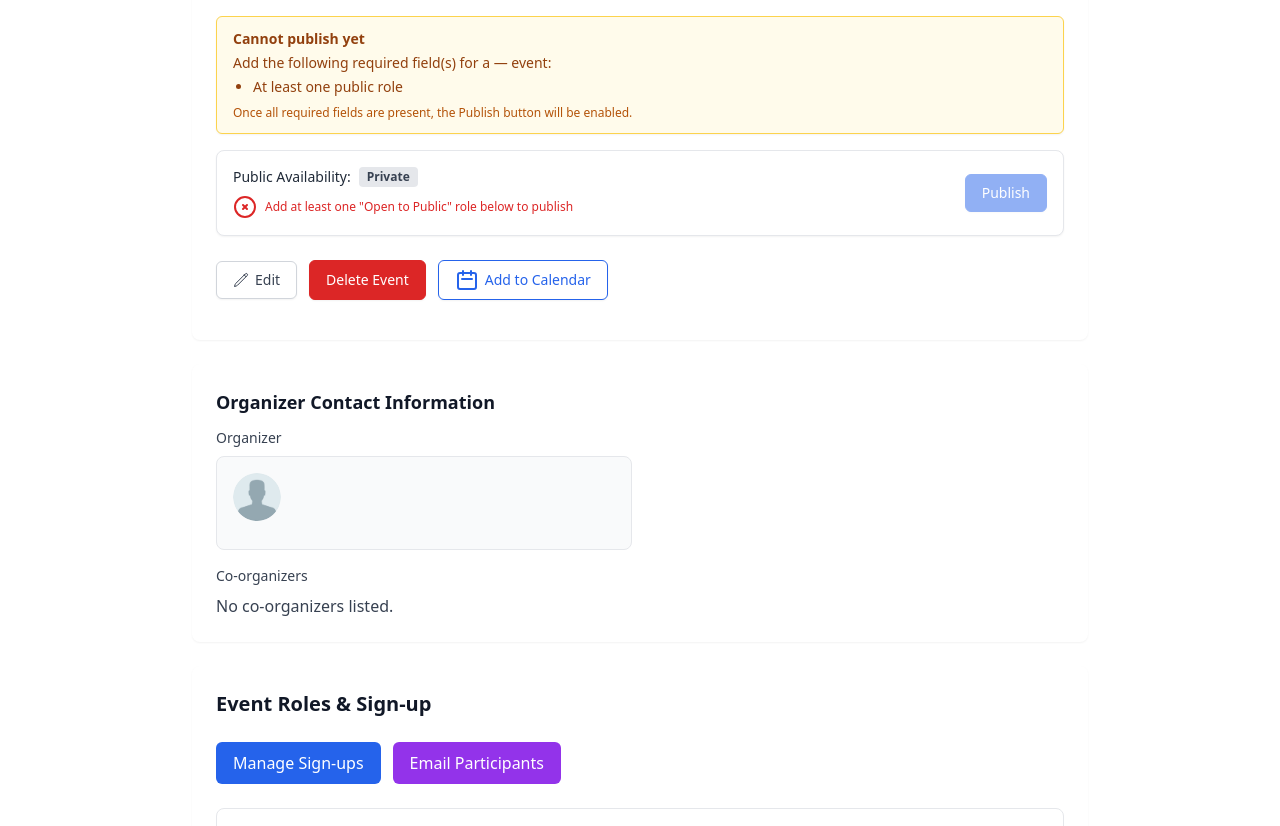
Test case: EventDetail - Admin guest actions › cancels a guest and removes it from the list after confirm
The width and height of the screenshot is (1280, 826).
Click the button "Manage Sign-ups" at coordinates (298, 763), box [216,742,381,784]
(page scrolled)
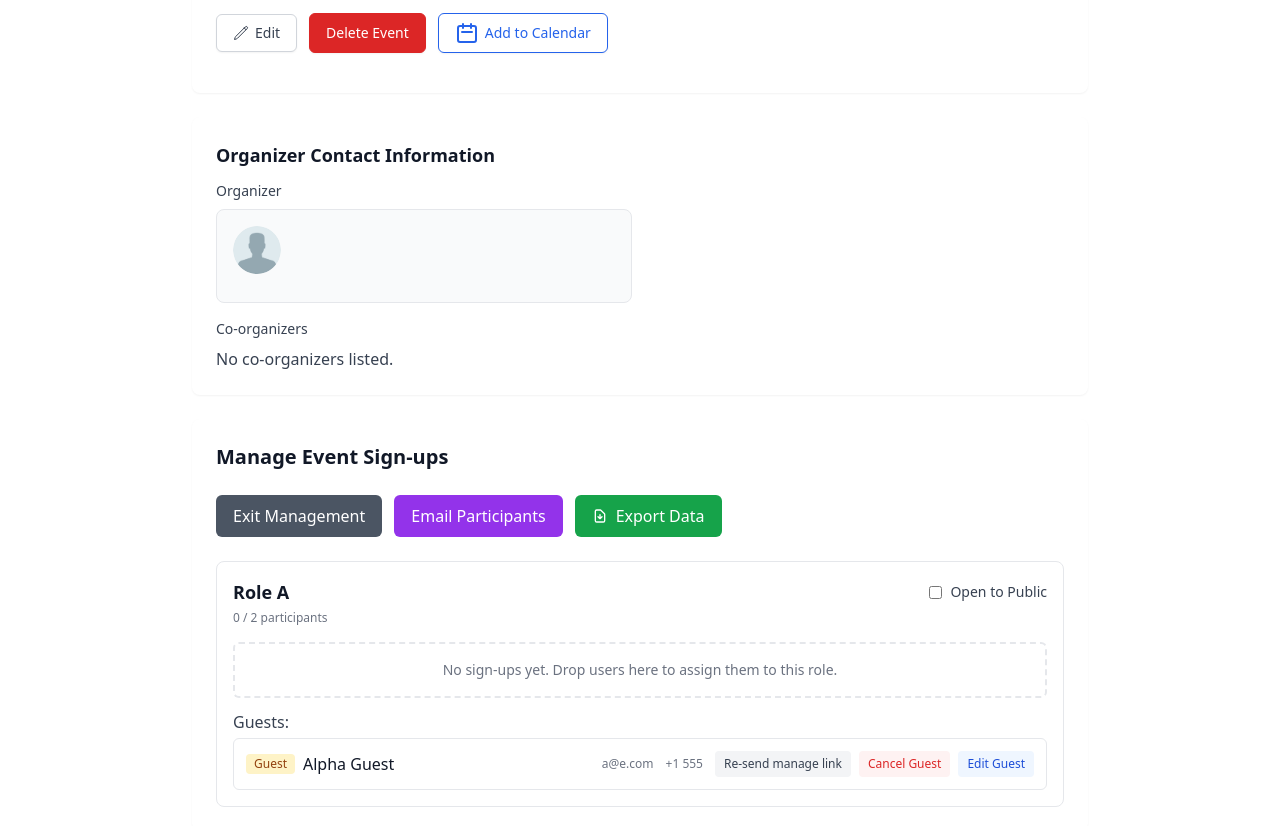
Expected: the heading "Guests:" is shown, [233,711,289,733]
Expected: the text "Alpha Guest" is shown, [303,752,394,776]
Click the button "Cancel Guest" at coordinates (905, 764), box [859,751,950,777]
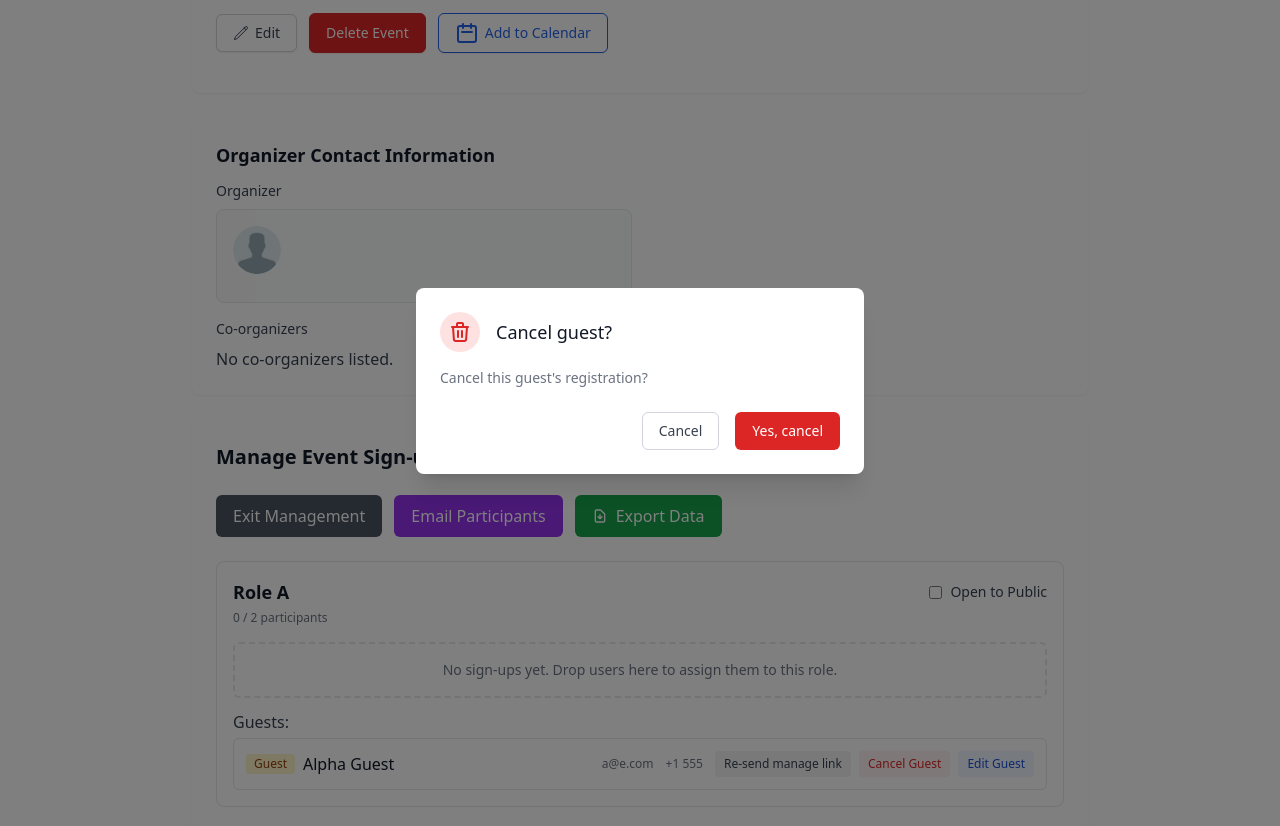
Note: Confirm via modal
Click the button "Yes, cancel" at coordinates (788, 431), box [735,412,840,450]
(page scrolled)
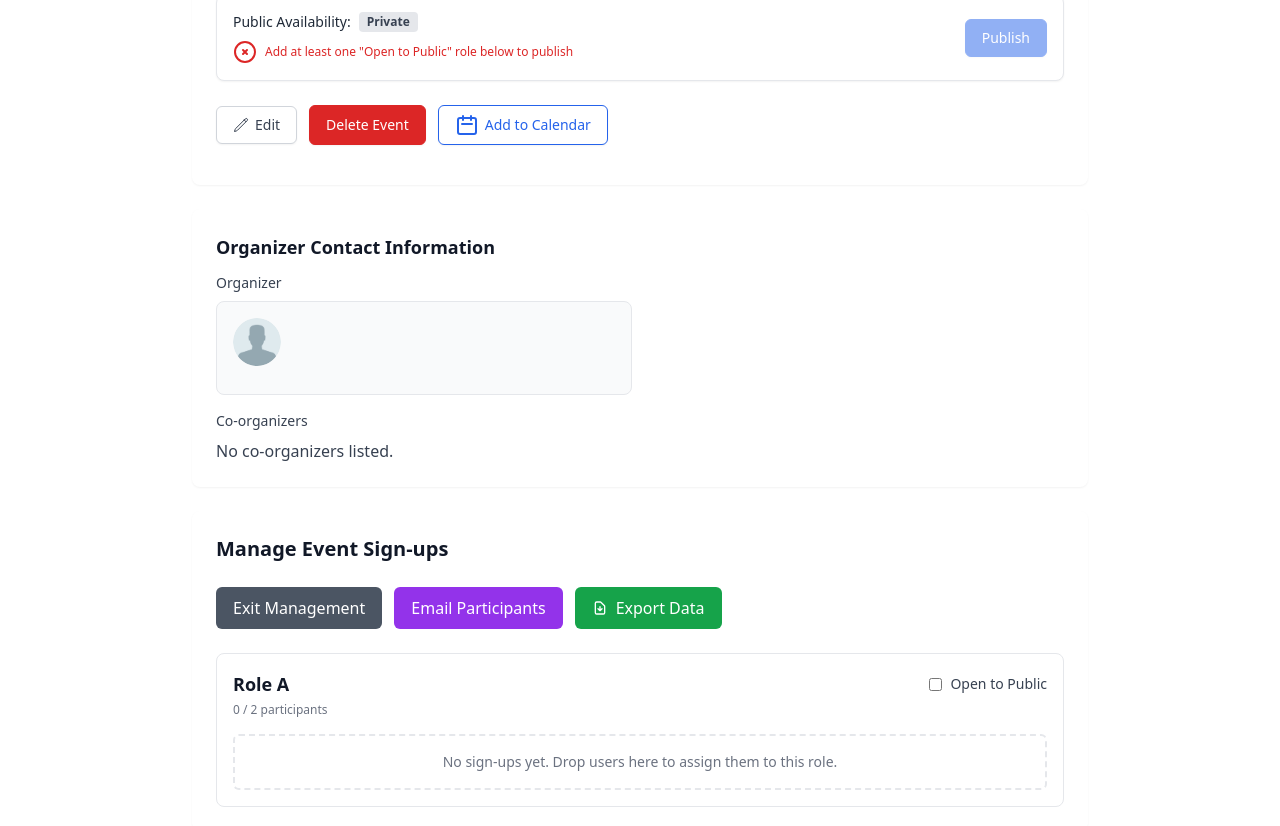
Expected: the text "Alpha Guest" is gone
